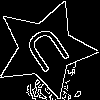U: (20, 24, 78, 83)
